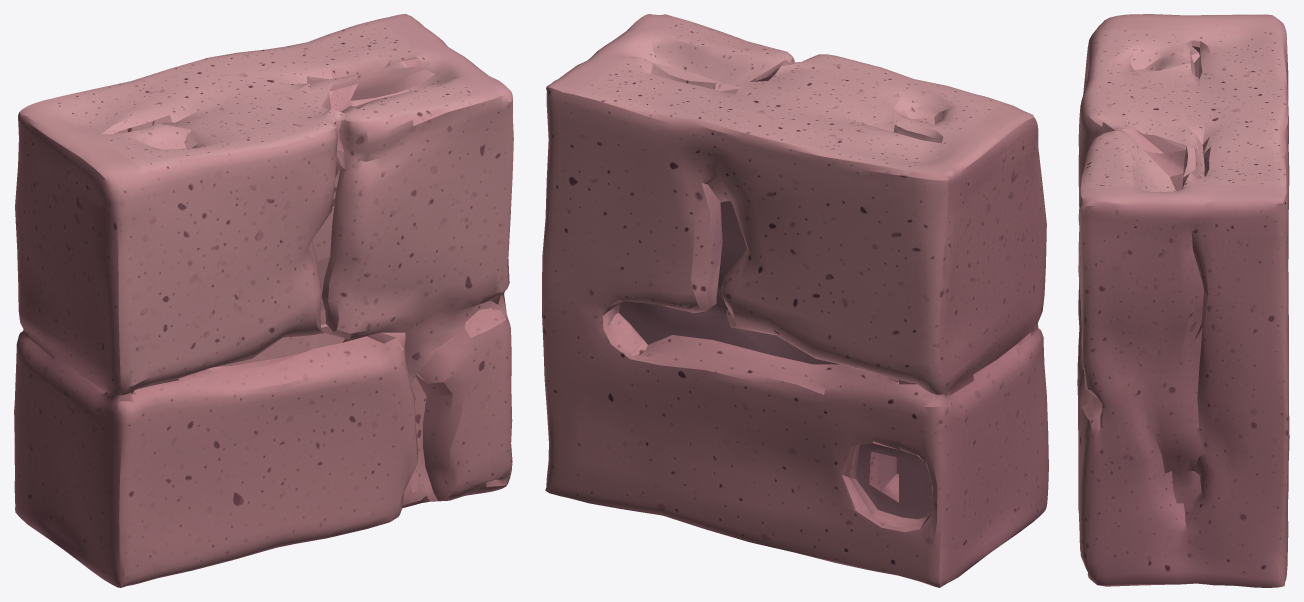
The model's file is brick_std_granite.glb.
The picture shows the model from 3 angles, left to right: view 1: azimuth 30°, elevation 25°; view 2: azimuth 150°, elevation 25°; view 3: azimuth 270°, elevation 25°; orthographic projection. The views are drawn at different scales.
Visible parts, largest first — view 1: Mesh_0; view 2: Mesh_0; view 3: Mesh_0.
Boxes of the visible parts, left/top/right/bottom form: Mesh_0: left=14, top=14, right=513, bottom=587; Mesh_0: left=542, top=14, right=1048, bottom=587; Mesh_0: left=1077, top=14, right=1289, bottom=587.
Size of the model in its own units: 1.9 by 1.84 by 0.904.
Materials: 1 (1 with a texture image).
